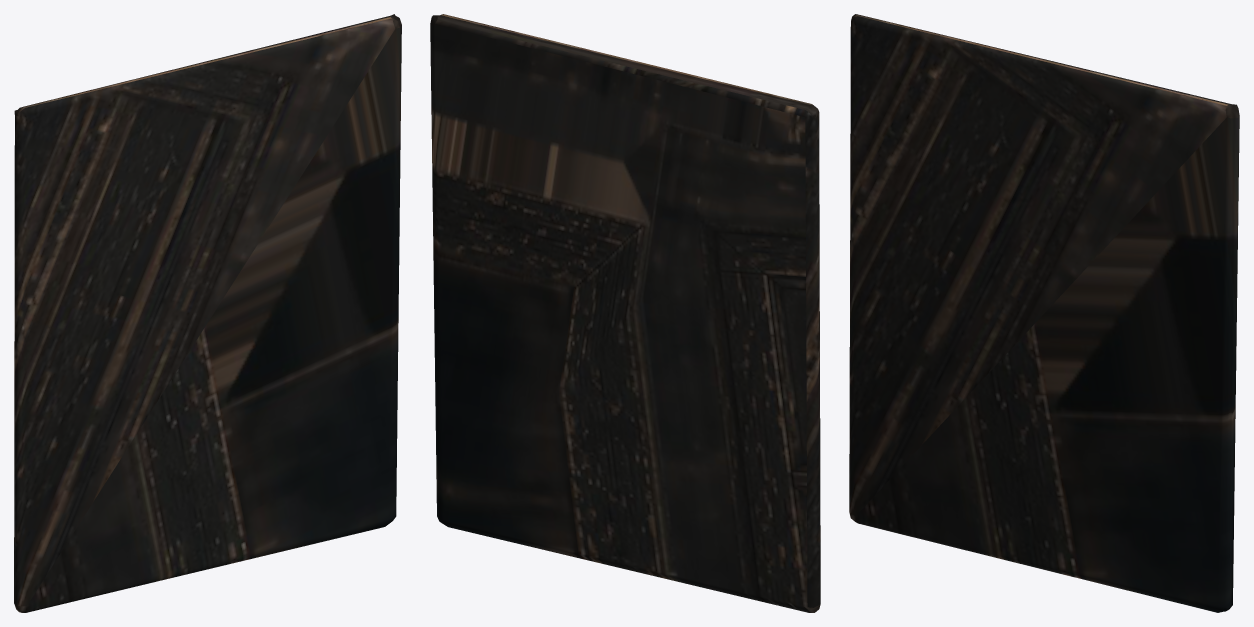
Rendered from hospital sign4.fbx.
3 renders of one model, left to right at view 1: azimuth 30°, elevation 25°; view 2: azimuth 150°, elevation 25°; view 3: azimuth 330°, elevation 25°, orthographic.
Parts seen in each view (by area): view 1: hospital sign4; view 2: hospital sign4; view 3: hospital sign4.
Boxes of the visible parts, bbox=[...] form: hospital sign4: bbox=[14, 14, 401, 612]; hospital sign4: bbox=[430, 14, 820, 612]; hospital sign4: bbox=[849, 14, 1239, 612].
Size of the model in its own units: 237 by 296 by 8.3.
